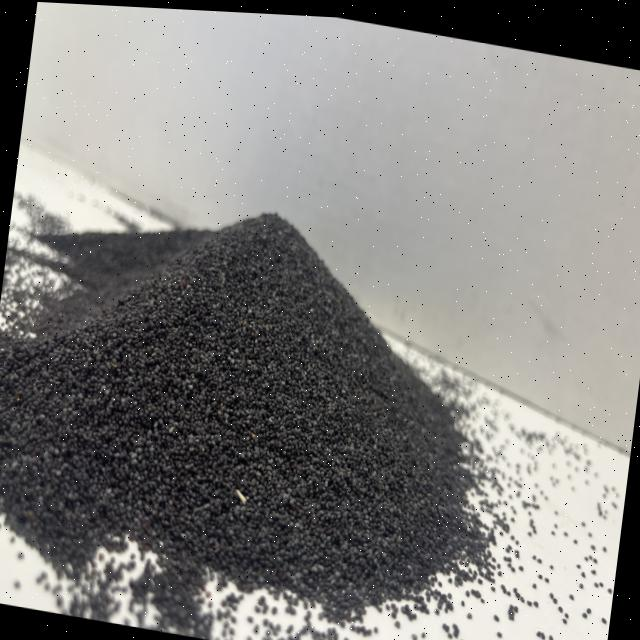Poppy Seeds: (0, 119, 548, 640)
